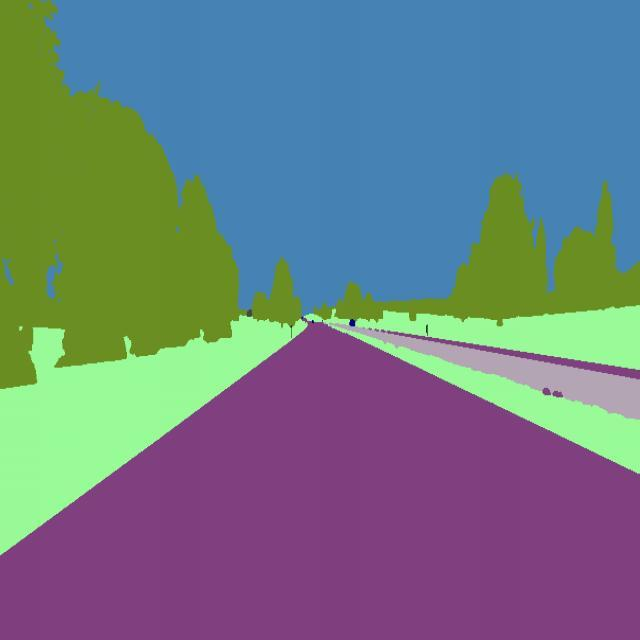safe: (348, 318, 356, 332)
